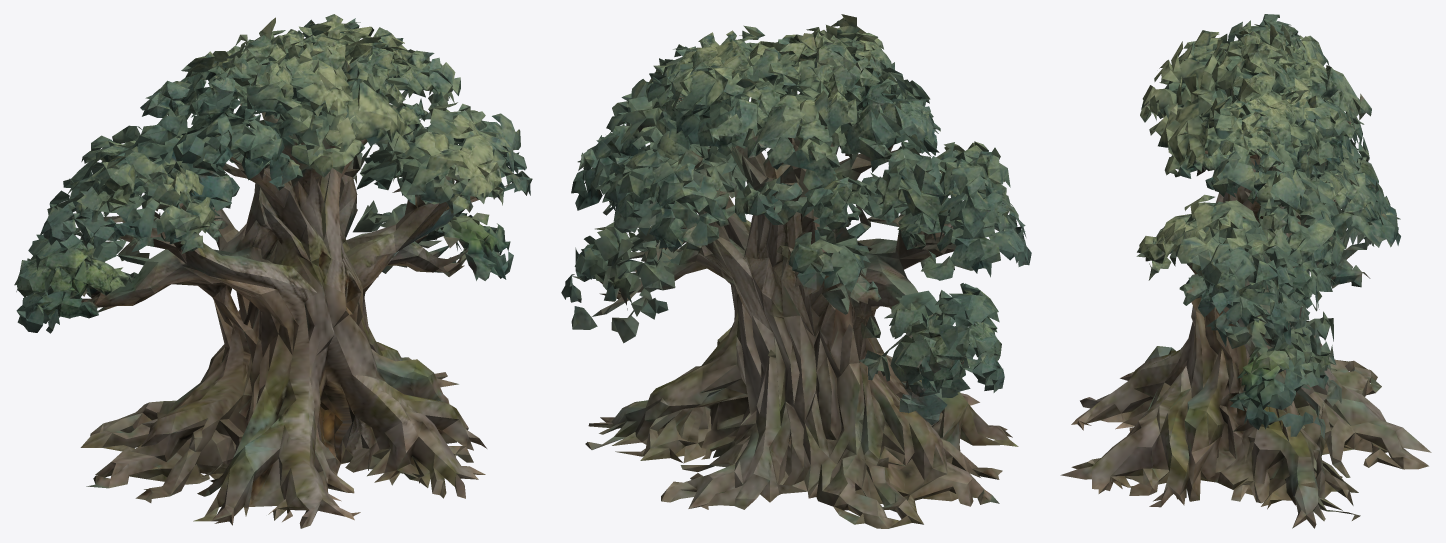
The model's file is ironwood_ancient_tree.glb.
3 renders of one model, left to right at view 1: azimuth 30°, elevation 25°; view 2: azimuth 150°, elevation 25°; view 3: azimuth 270°, elevation 25°, orthographic. The views are drawn at different scales.
Bounding box in the file's own units: 1.84 × 1.62 × 1.31.
1 material, 1 textured.
